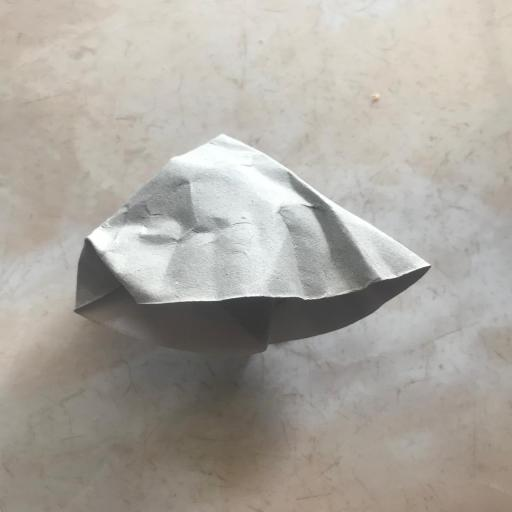waste: (57, 118, 432, 360)
